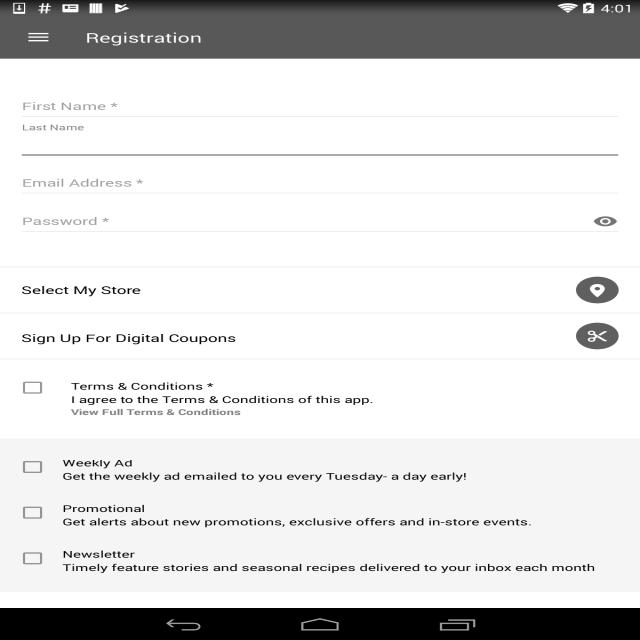CheckBox: (16, 456, 50, 478), (16, 377, 50, 398), (16, 502, 50, 523), (16, 548, 50, 569)
EditText: (18, 161, 622, 199), (18, 85, 622, 122), (18, 123, 622, 160), (18, 200, 622, 237)
ImageButton: (9, 16, 68, 59), (588, 207, 622, 230)
ImageView: (576, 277, 619, 303), (576, 323, 619, 349)
TextView: (21, 313, 619, 359), (62, 456, 619, 470), (62, 515, 619, 529), (62, 470, 619, 483), (62, 502, 619, 515), (62, 548, 619, 561), (62, 561, 619, 574), (71, 393, 374, 406), (71, 377, 213, 393), (85, 28, 202, 46), (71, 407, 240, 418), (22, 283, 142, 297)
